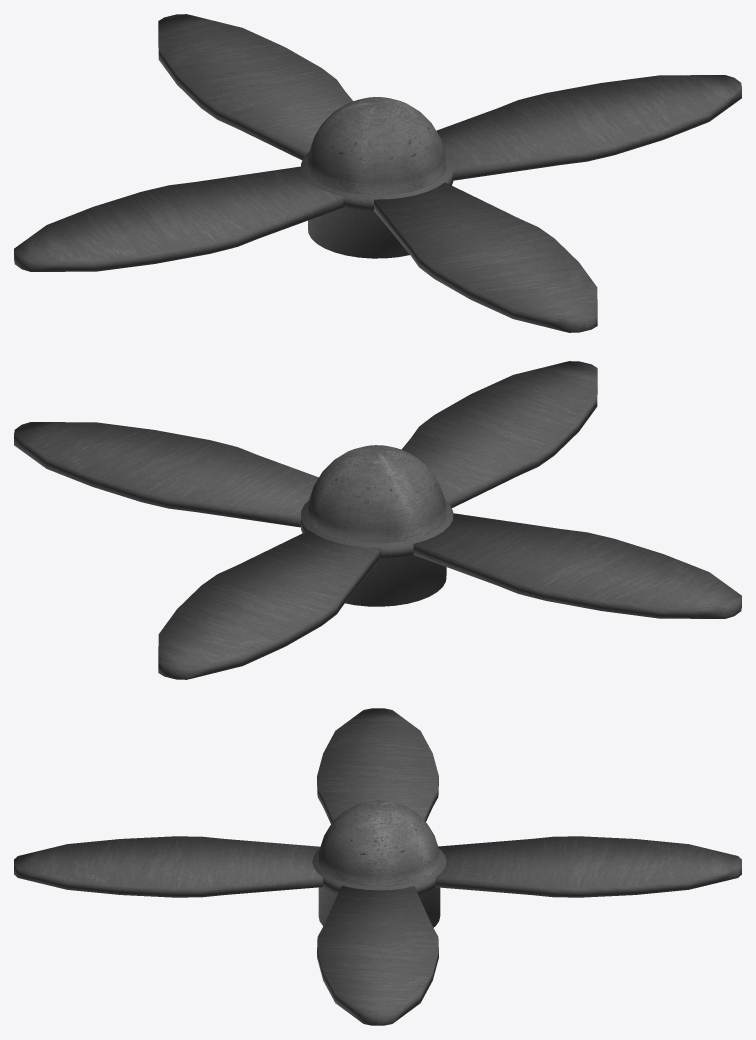
Rendered from metal-fan.obj.
The picture shows the model from 3 angles, top to bottom: view 1: azimuth 30°, elevation 25°; view 2: azimuth 150°, elevation 25°; view 3: azimuth 270°, elevation 25°; orthographic projection. The views are drawn at different scales.
Visible parts, largest first — view 1: metal-fan; view 2: metal-fan; view 3: metal-fan.
Boxes of the visible parts, box(x1,y1,x2,y2) form: metal-fan: box(14, 14, 741, 332); metal-fan: box(14, 361, 741, 679); metal-fan: box(14, 708, 741, 1025).
Size of the model in its own units: 11.96 by 2 by 11.96.
